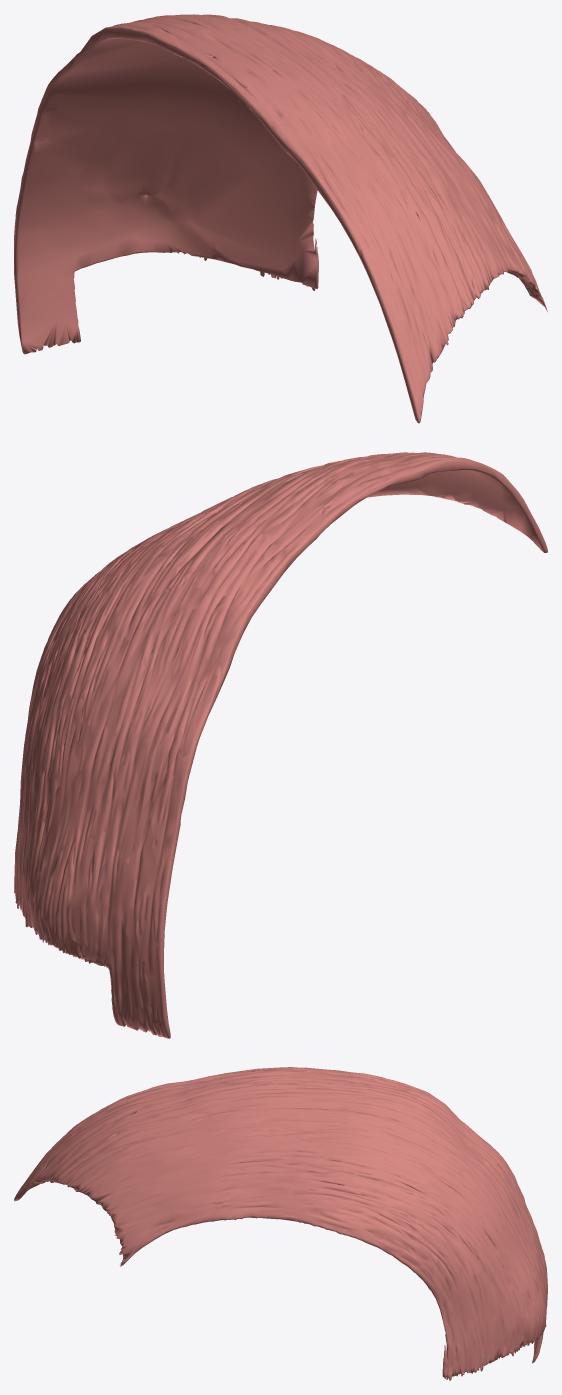
3 views of the same model, one above another, from view 1: azimuth 30°, elevation 25°; view 2: azimuth 150°, elevation 25°; view 3: azimuth 270°, elevation 25° (orthographic). The views are drawn at different scales.
Visible parts, largest first — view 1: ZA_6758c46ff35da57d; view 2: ZA_6758c46ff35da57d; view 3: ZA_6758c46ff35da57d.
Boxes of the visible parts, x1=… form: ZA_6758c46ff35da57d: x1=14, y1=14, x2=547, y2=423; ZA_6758c46ff35da57d: x1=14, y1=452, x2=547, y2=1038; ZA_6758c46ff35da57d: x1=14, y1=1067, x2=547, y2=1380.
Size of the model in its own units: 0.0669 by 0.1091 by 0.1885.
